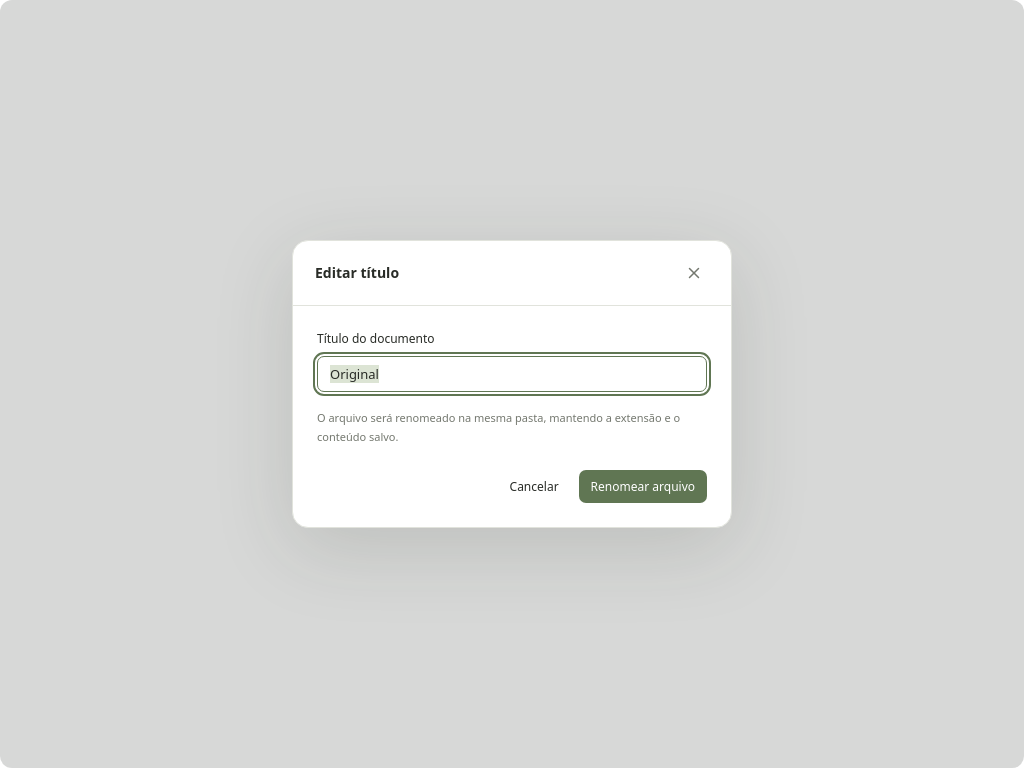
mantém o título digitado quando o arquivo não pode ser renomeado
Replace the text in the field labelled "Título do documento" with "Novo" at (512, 374), box [317,356,707,392]
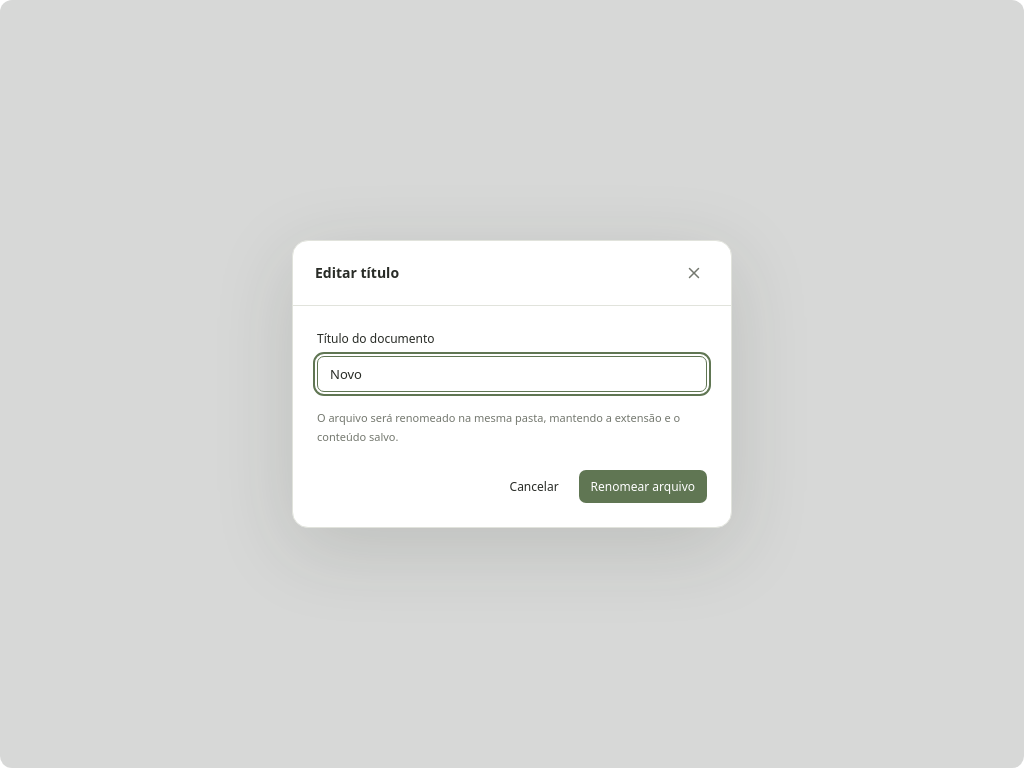
Click the button "Renomear arquivo" at (643, 487), box [579,470,707,503]
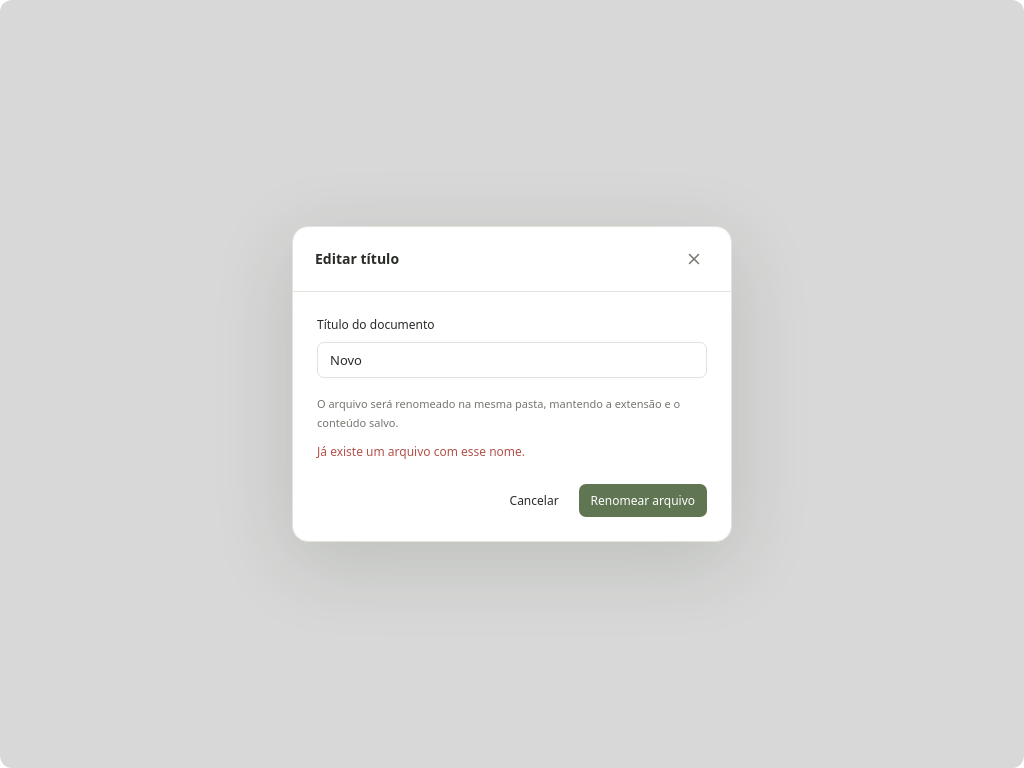
expect the message shows "Já existe um arquivo": met, box [317,443,525,460]
